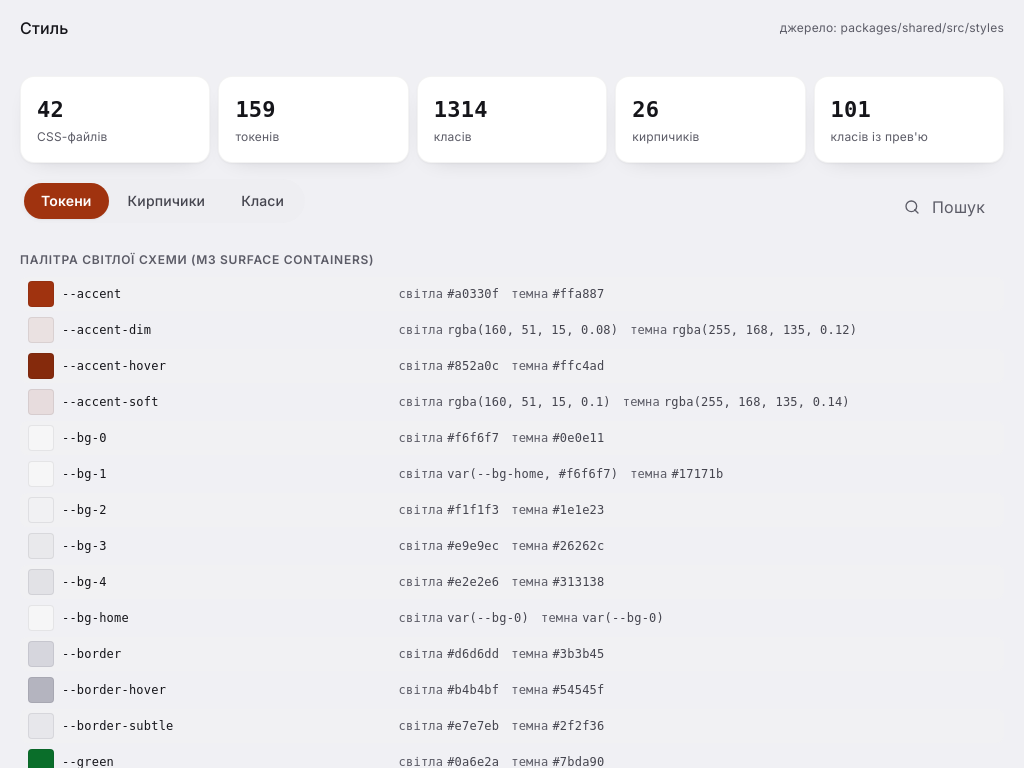
сторінка «Стиль» › кирпичики — справжня розмітка: кнопка, поле й футер на місці
The width and height of the screenshot is (1024, 768).
expect the text "токенів" is shown: met, box [235,129,279,144]
Step 1. Click the tab "Кирпичики" → coordinates (166, 201), box [111,183,222,219]
(page scrolled)
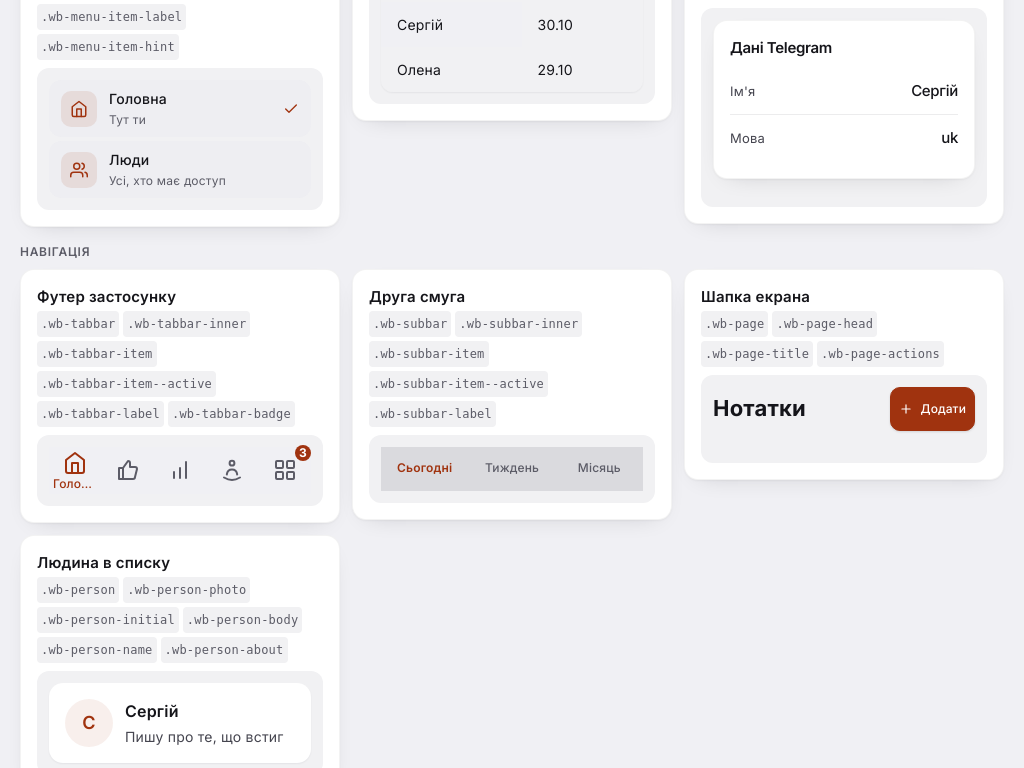
expect the text "Футер застосунку" is shown: met, box [37,287,176,306]
expect the text ".wb-tabbar-item--active" is shown: met, box [37,371,216,397]
